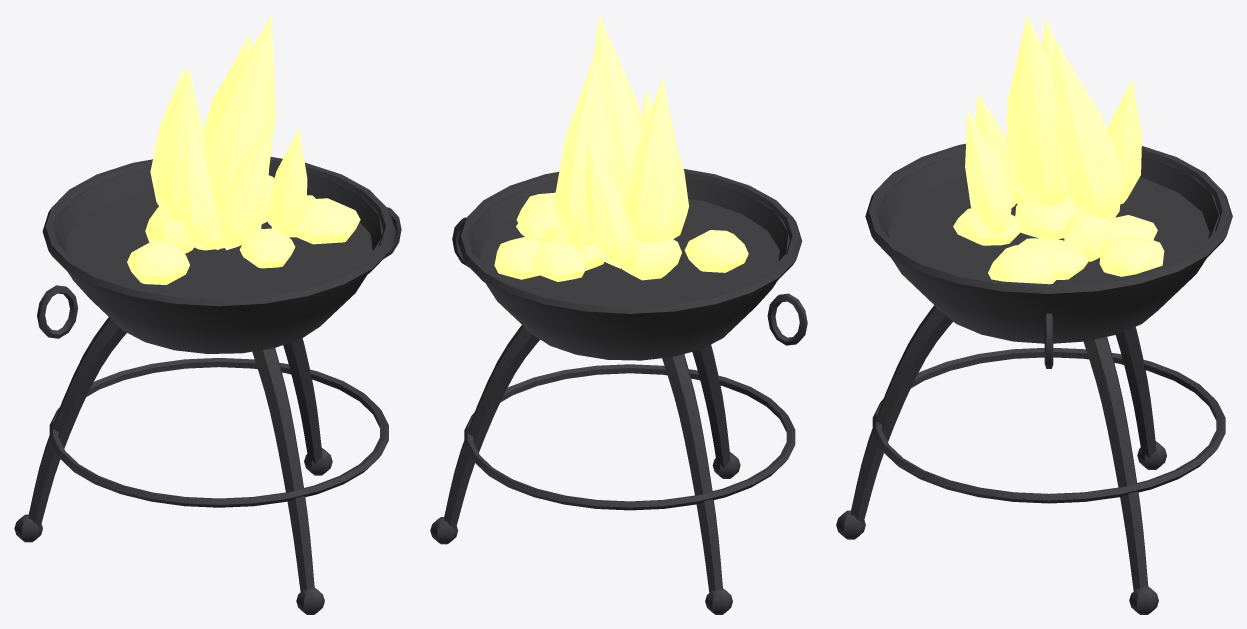
The model's file is gu_braciere.fbx.
The picture shows the model from 3 angles, left to right: view 1: azimuth 30°, elevation 25°; view 2: azimuth 150°, elevation 25°; view 3: azimuth 270°, elevation 25°; orthographic projection. The views are drawn at different scales.
Visible parts, largest first — view 1: gu_braciere_ferro, gu_braciere_fuoco, gu_braciere_brace; view 2: gu_braciere_ferro, gu_braciere_fuoco, gu_braciere_brace; view 3: gu_braciere_ferro, gu_braciere_fuoco, gu_braciere_brace.
Part boxes in pixels (x1=…): gu_braciere_ferro: x1=14, y1=157, x2=401, y2=614; gu_braciere_fuoco: x1=150, y1=14, x2=307, y2=249; gu_braciere_brace: x1=127, y1=175, x2=360, y2=284; gu_braciere_ferro: x1=430, y1=169, x2=807, y2=614; gu_braciere_fuoco: x1=554, y1=14, x2=688, y2=268; gu_braciere_brace: x1=494, y1=192, x2=748, y2=281; gu_braciere_ferro: x1=836, y1=143, x2=1232, y2=614; gu_braciere_fuoco: x1=965, y1=14, x2=1142, y2=236; gu_braciere_brace: x1=953, y1=195, x2=1164, y2=284.
Size of the model in its own units: 0.7569 by 1.05 by 0.6909.
